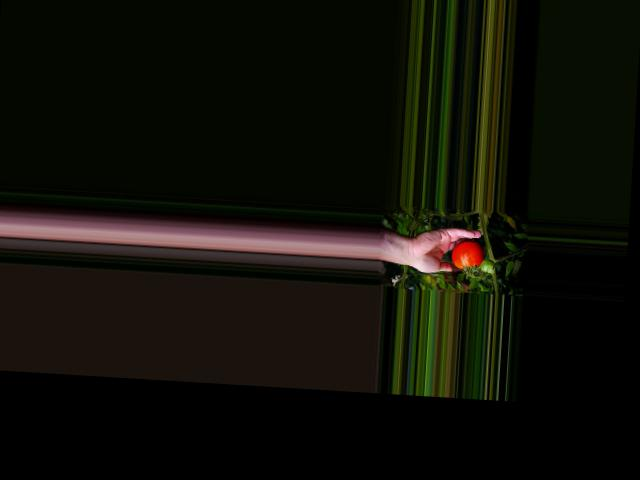tomato: (450, 239, 485, 270)
